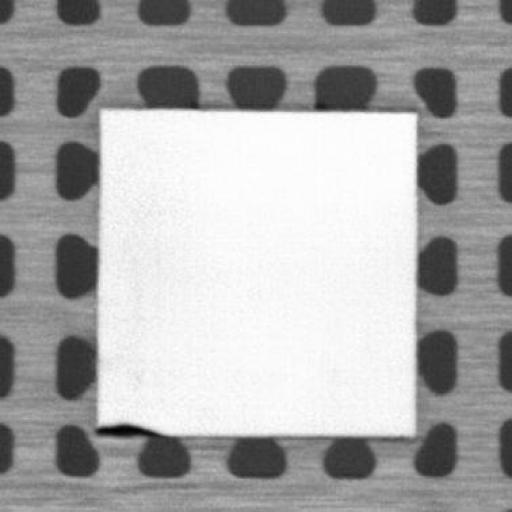DIE_BROKEN: (93, 421, 164, 437)
